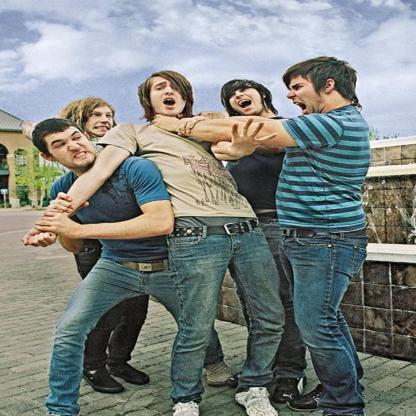face: (46, 129, 96, 167), (288, 77, 326, 117), (151, 77, 187, 117), (227, 86, 263, 116), (86, 105, 114, 136)
